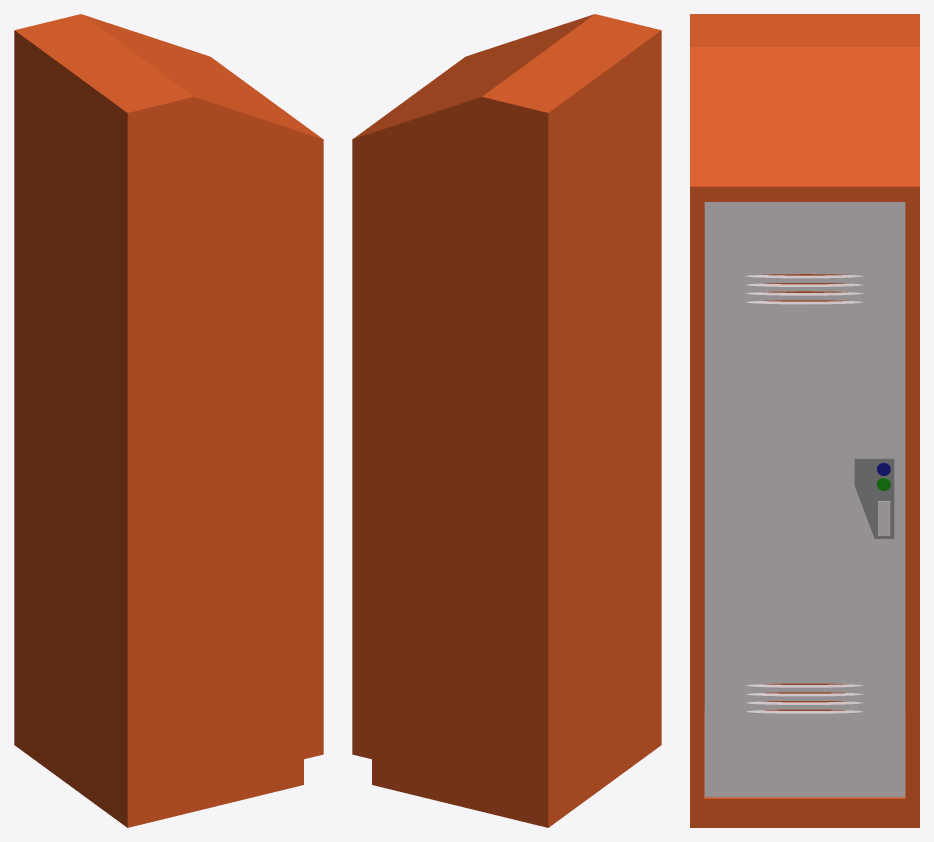
File: Locker-01.fbx
3 views of the same model, side by side, from view 1: azimuth 30°, elevation 25°; view 2: azimuth 150°, elevation 25°; view 3: azimuth 270°, elevation 25° (orthographic).
Visible parts, largest first — view 1: Locker_main, Cube, Locker_base; view 2: Locker_main, Cube, Locker_base; view 3: Locker_door, Cube, Locker_main, Locker_base, Panel_main, Panel_control.
Boxes of the visible parts, bbox=[...] form: Locker_main: bbox=[14, 104, 323, 802]; Cube: bbox=[14, 14, 322, 186]; Locker_base: bbox=[14, 719, 303, 827]; Locker_main: bbox=[352, 104, 661, 802]; Cube: bbox=[353, 14, 661, 186]; Locker_base: bbox=[372, 719, 661, 827]; Locker_door: bbox=[704, 202, 905, 797]; Cube: bbox=[690, 14, 919, 186]; Locker_main: bbox=[690, 186, 919, 811]; Locker_base: bbox=[690, 811, 919, 827]; Panel_main: bbox=[854, 457, 894, 538]; Panel_control: bbox=[878, 501, 890, 535].
Size of the model in its own units: 201 by 697 by 200.
